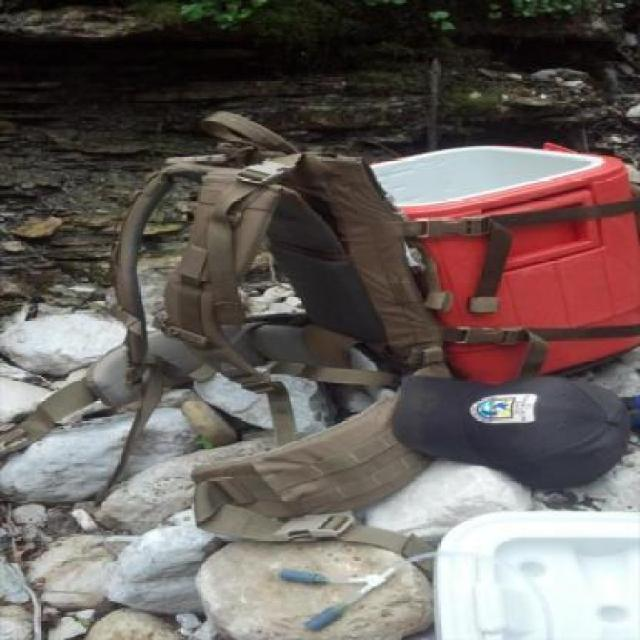backpack: (109, 108, 460, 386)
